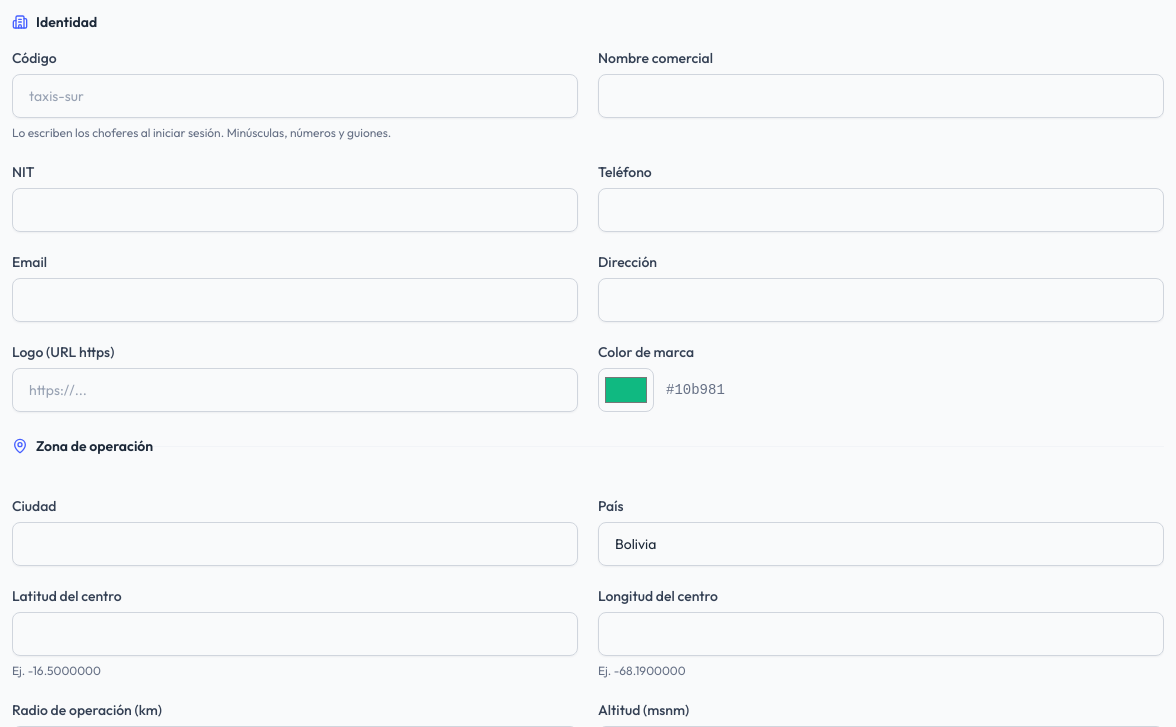
Test: FormEmpresa › al crear exige código y gerente, y valida los campos
The width and height of the screenshot is (1176, 727).
In the field with placeholder "taxis-sur": coordinates (295, 96) [12,74,578,118], type "Taxis-SUR"
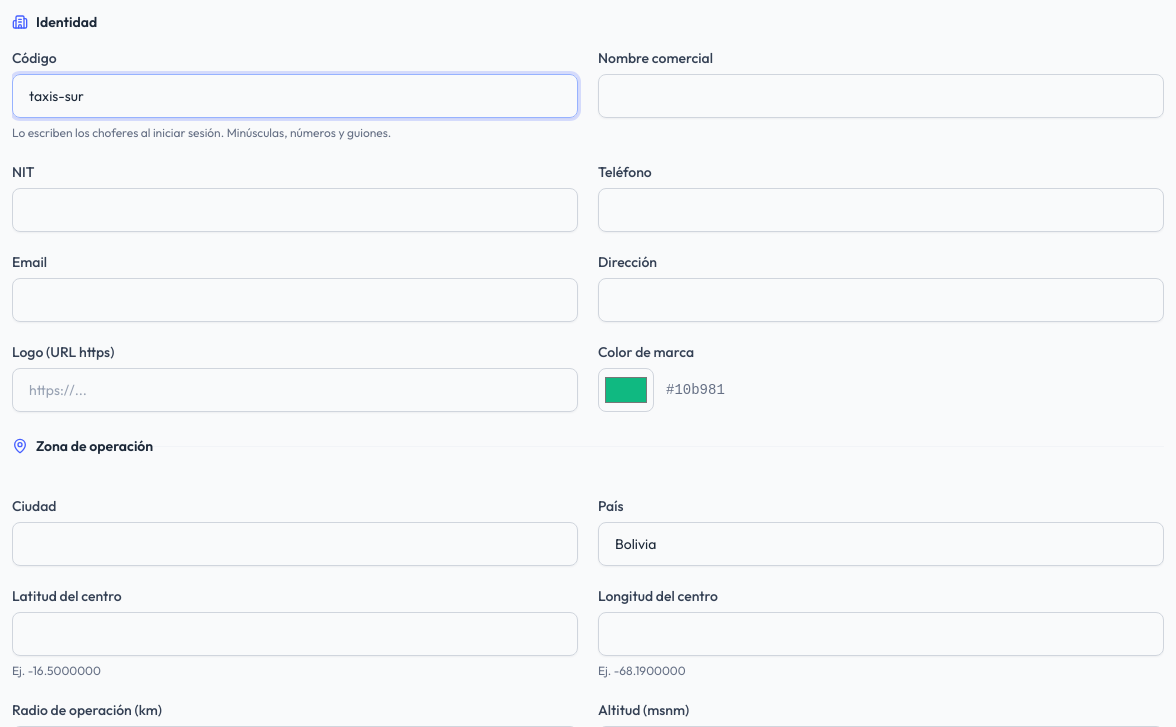
In the field below "Nombre comercial": coordinates (881, 96) [598,74,1164,118], type "1234"
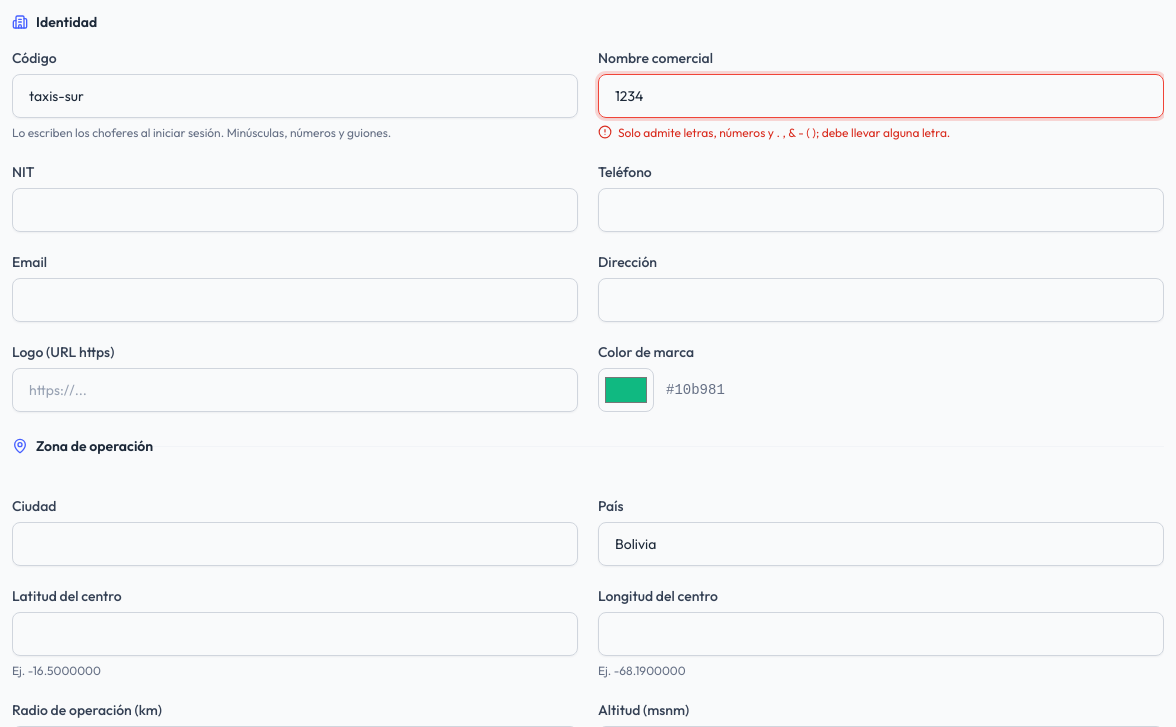
Expected: the message shows "alguna letra", [618,125,950,140]
